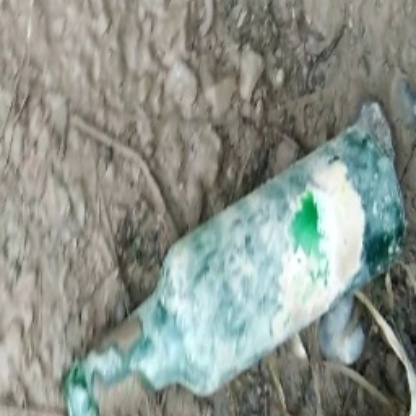bottle: (72, 99, 405, 409)
